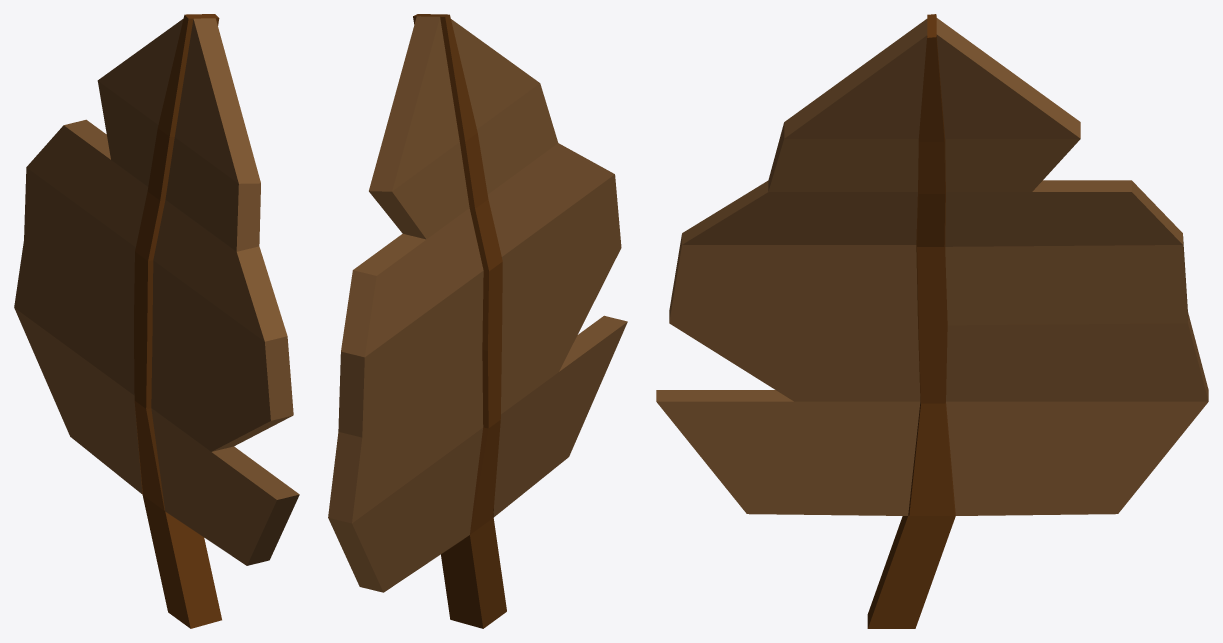
File: FeuilleMorte.glb
3 views of the same model, side by side, from view 1: azimuth 30°, elevation 25°; view 2: azimuth 150°, elevation 25°; view 3: azimuth 270°, elevation 25° (orthographic). The views are drawn at different scales.
Parts seen in each view (by area): view 1: FeuilleMorte; view 2: FeuilleMorte; view 3: FeuilleMorte.
Part boxes in pixels (box(x1,y1,x2,y2)): FeuilleMorte: box(14, 14, 299, 628); FeuilleMorte: box(328, 14, 627, 628); FeuilleMorte: box(656, 14, 1208, 628).
Size of the model in its own units: 0.0159 by 0.116 by 0.0947.
